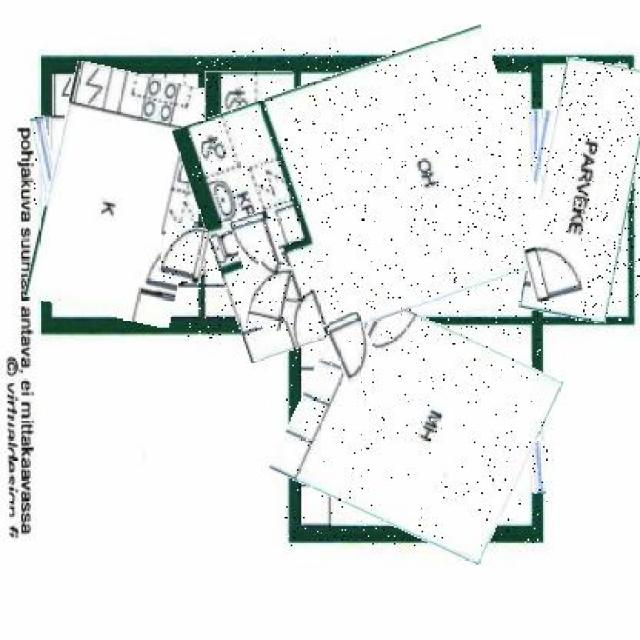door: (526, 240, 582, 300), (330, 314, 376, 381), (160, 224, 209, 282), (249, 263, 289, 331), (234, 214, 278, 275)
window: (526, 109, 548, 240), (35, 116, 60, 222), (528, 383, 544, 494)
zone: (189, 48, 546, 340), (284, 305, 548, 546), (38, 68, 211, 322), (529, 60, 640, 320), (205, 71, 292, 217)
